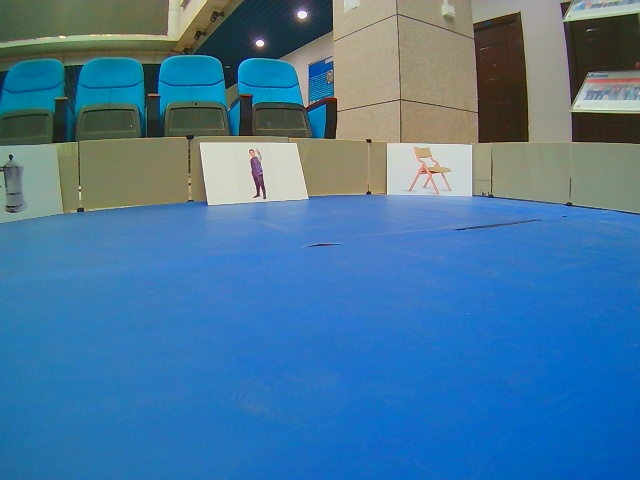person: (200, 142, 310, 206)
table: (384, 142, 474, 198)
